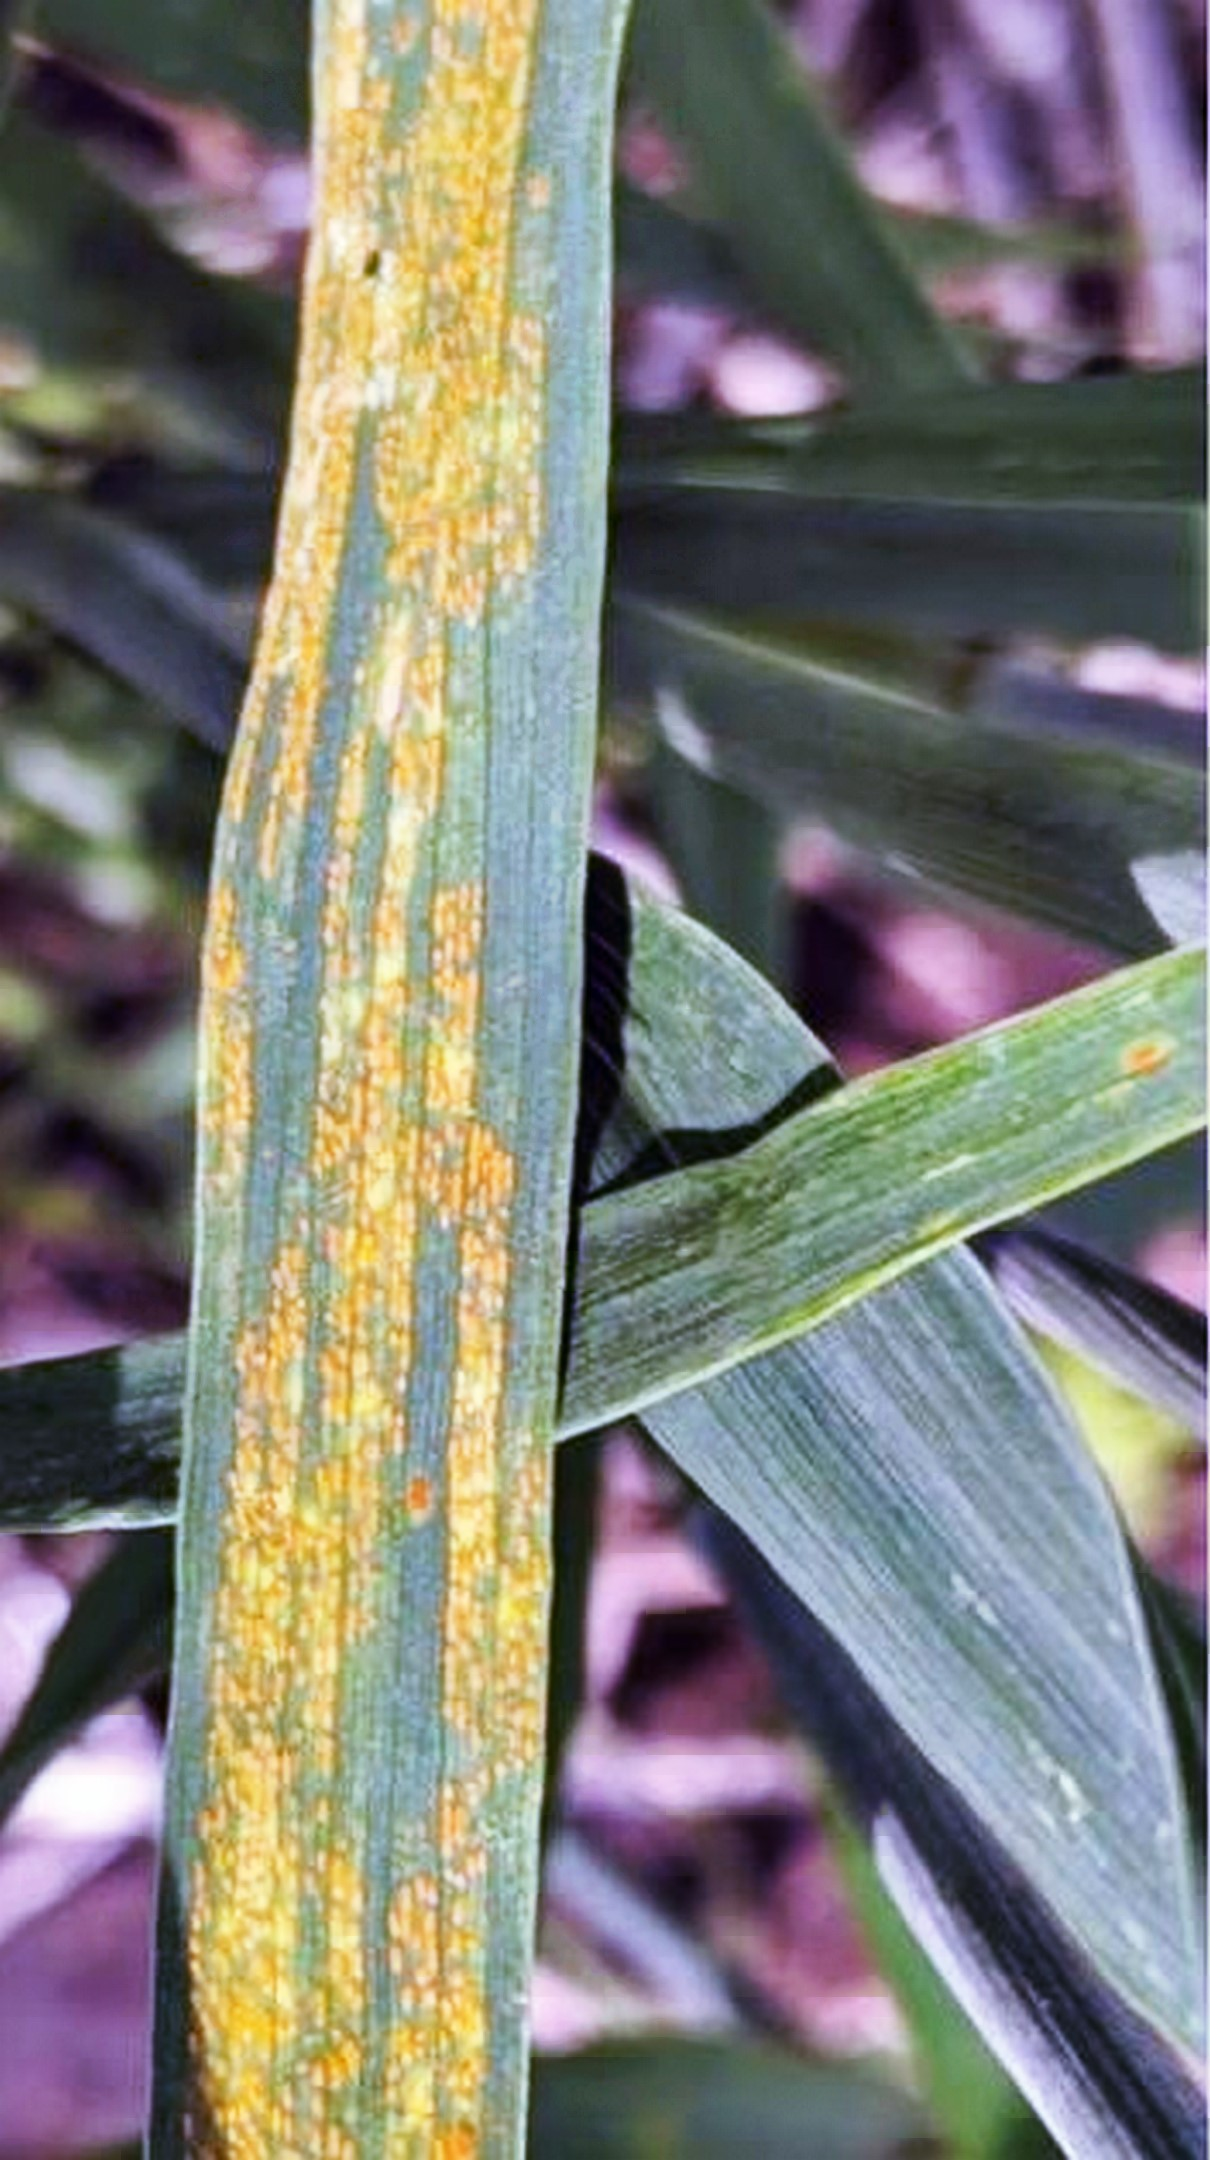Leaf Rust: (176, 89, 652, 2104)
